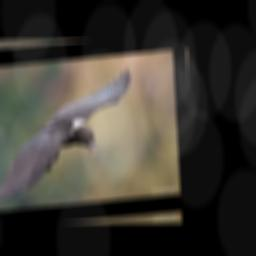Crow: (0, 66, 138, 208)
